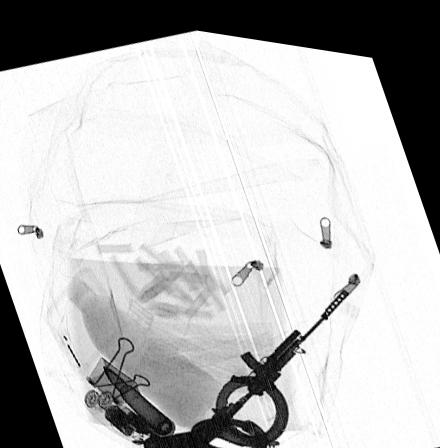Bullet: (102, 361, 175, 430)
Gun: (210, 275, 351, 413)
HandCuffs: (142, 364, 290, 448)
